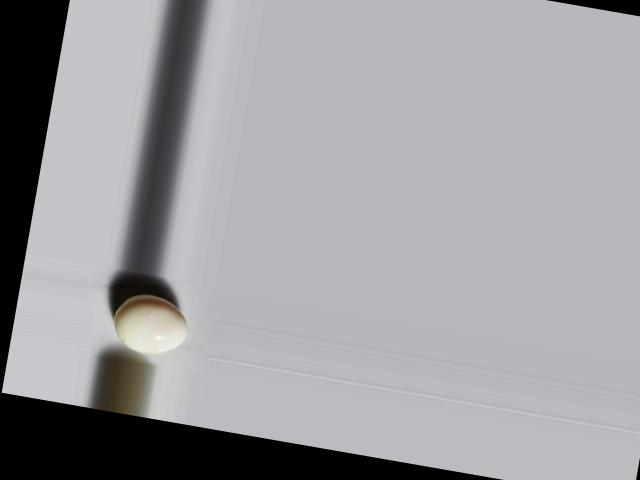egg: (108, 289, 191, 359)
